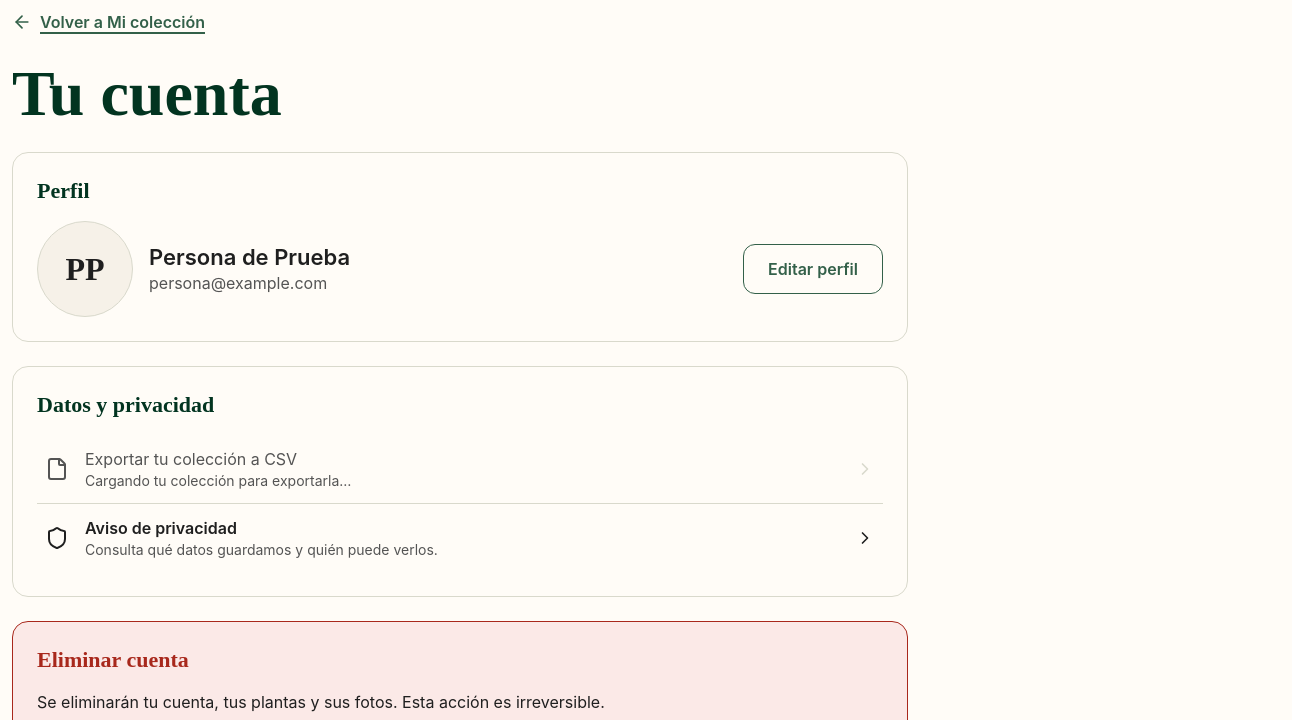
Scenario: AccountPage: rediseño de «Tu cuenta» (#214) › «Editar perfil» abre el editor y, al cerrarlo, los cambios se ven sin recargar
This screenshot has width=1292, height=720.
Expected: the text "PP" is shown, 37,221 -> 133,317
Click the button "Editar perfil" at (813, 269), box 743,244 -> 883,294
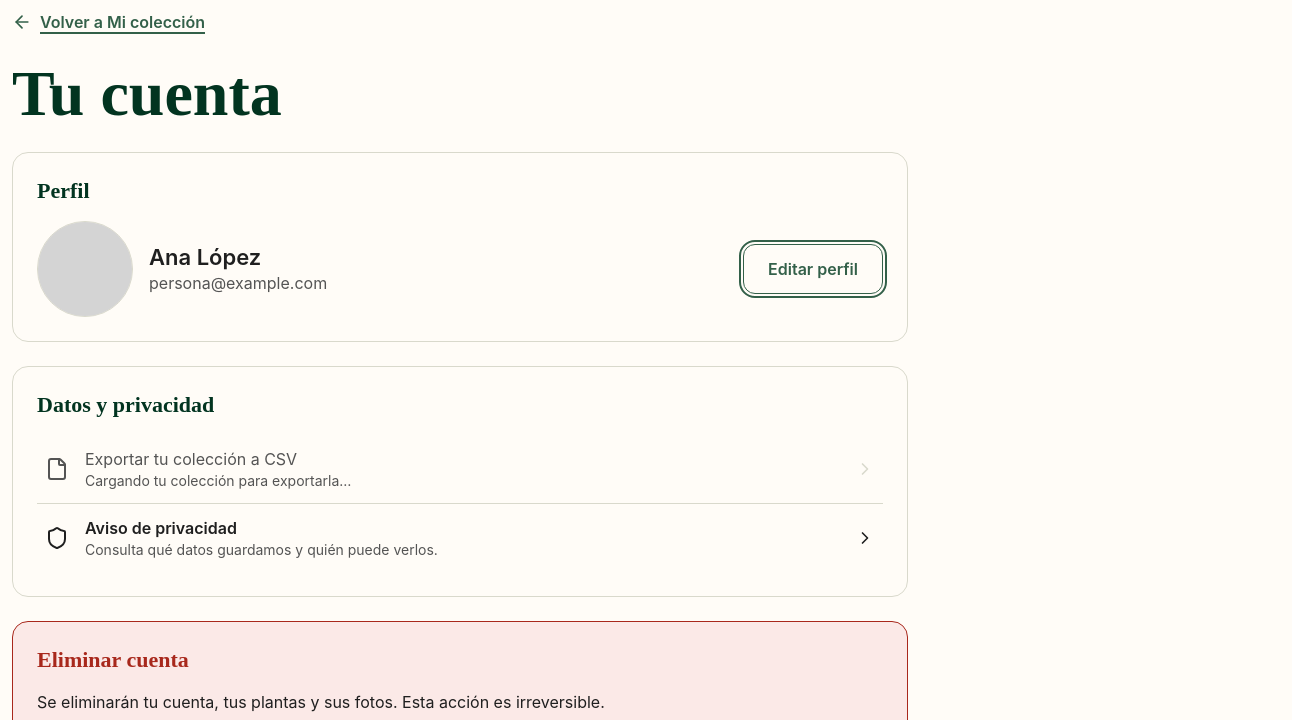
Now the text "Ana López" is shown, box 149,244 -> 261,270
